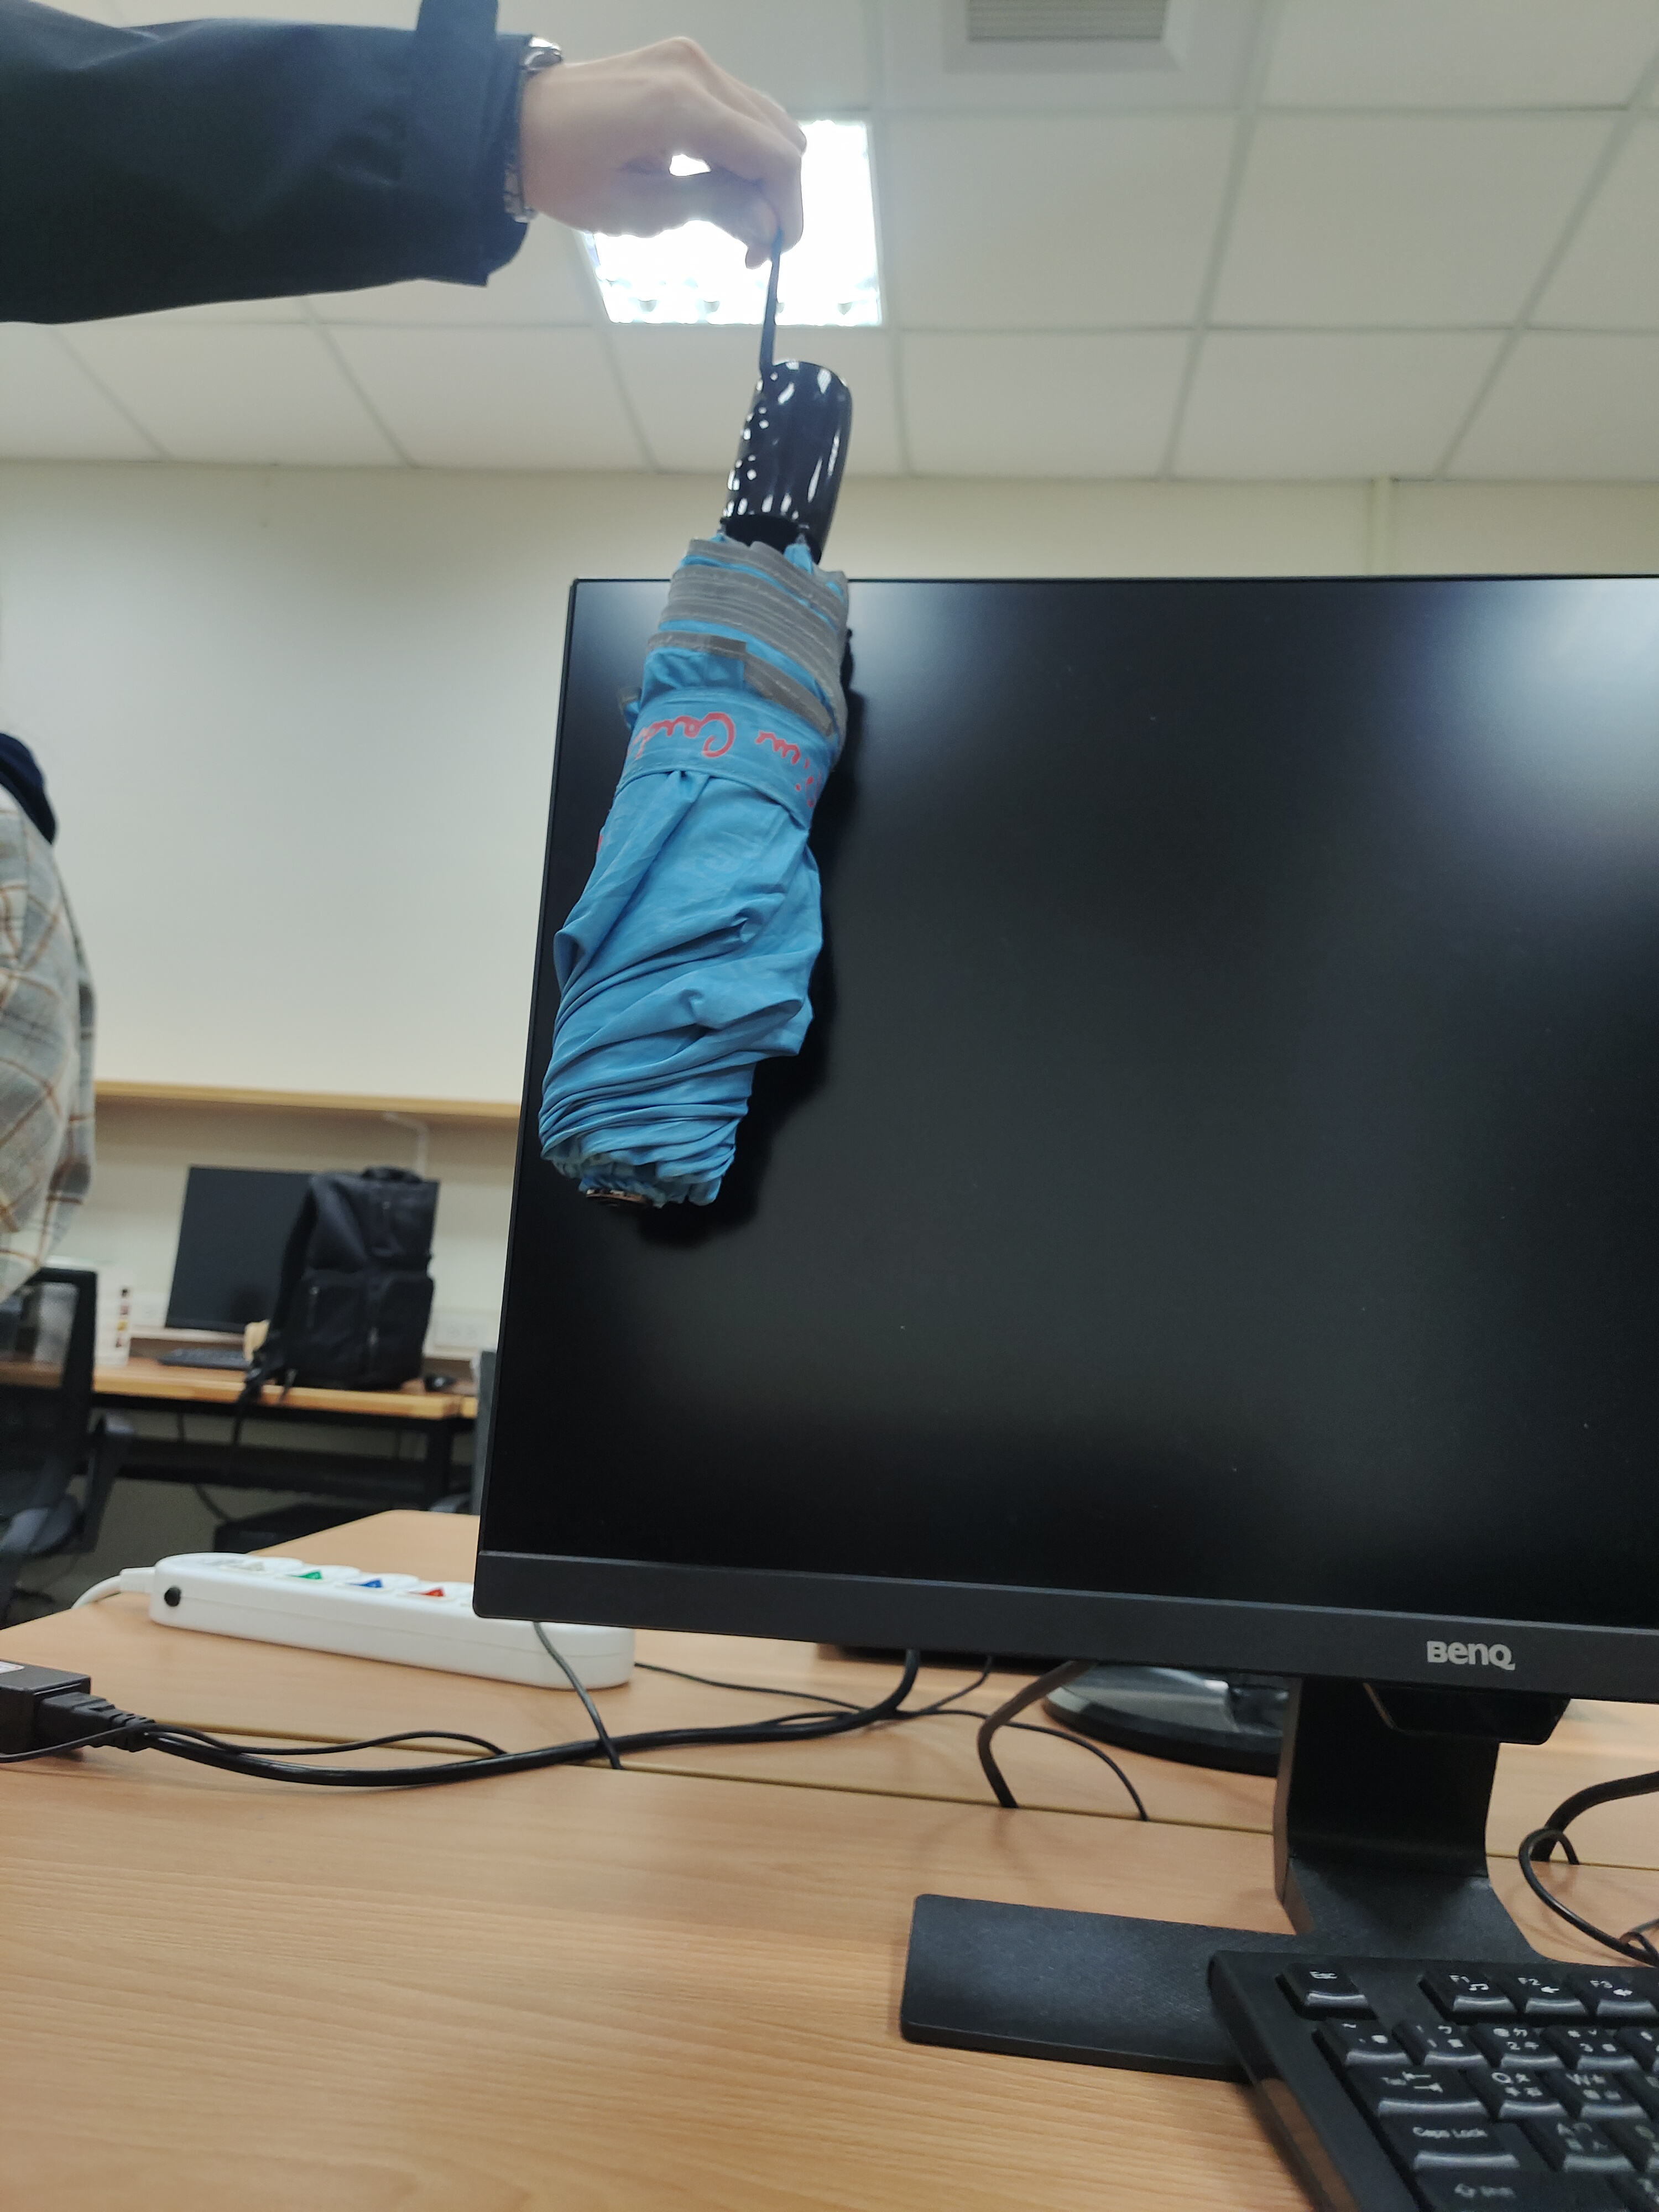Umbrella: (507, 324, 870, 1256)
